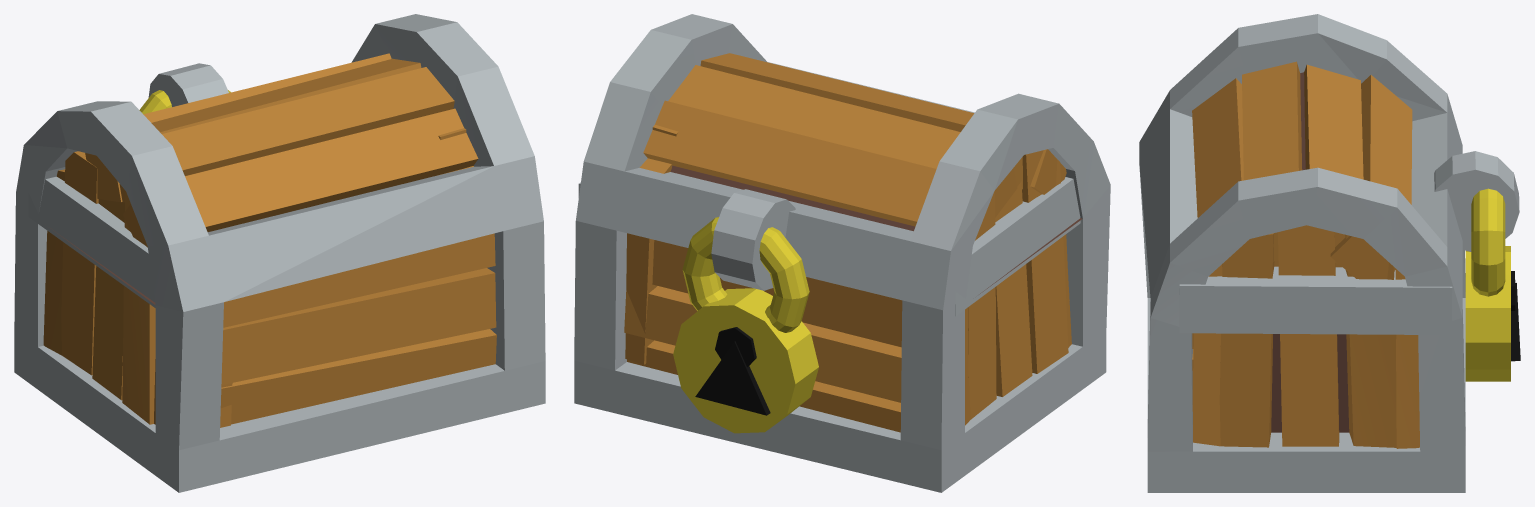
Rendered from chest.glb.
3 views of the same model, side by side, from view 1: azimuth 30°, elevation 25°; view 2: azimuth 150°, elevation 25°; view 3: azimuth 270°, elevation 25° (orthographic). The views are drawn at different scales.
Parts seen in each view (by area): view 1: node_MeshObject31647232-PolyPaper19; view 2: node_MeshObject31647232-PolyPaper19; view 3: node_MeshObject31647232-PolyPaper19.
Boxes of the visible parts, x1,y1,x2,y2 form: node_MeshObject31647232-PolyPaper19: (14, 14, 545, 492); node_MeshObject31647232-PolyPaper19: (574, 14, 1110, 492); node_MeshObject31647232-PolyPaper19: (1139, 14, 1520, 492).
Bounding box in the file's own units: 1.48 × 1.21 × 1.36.
